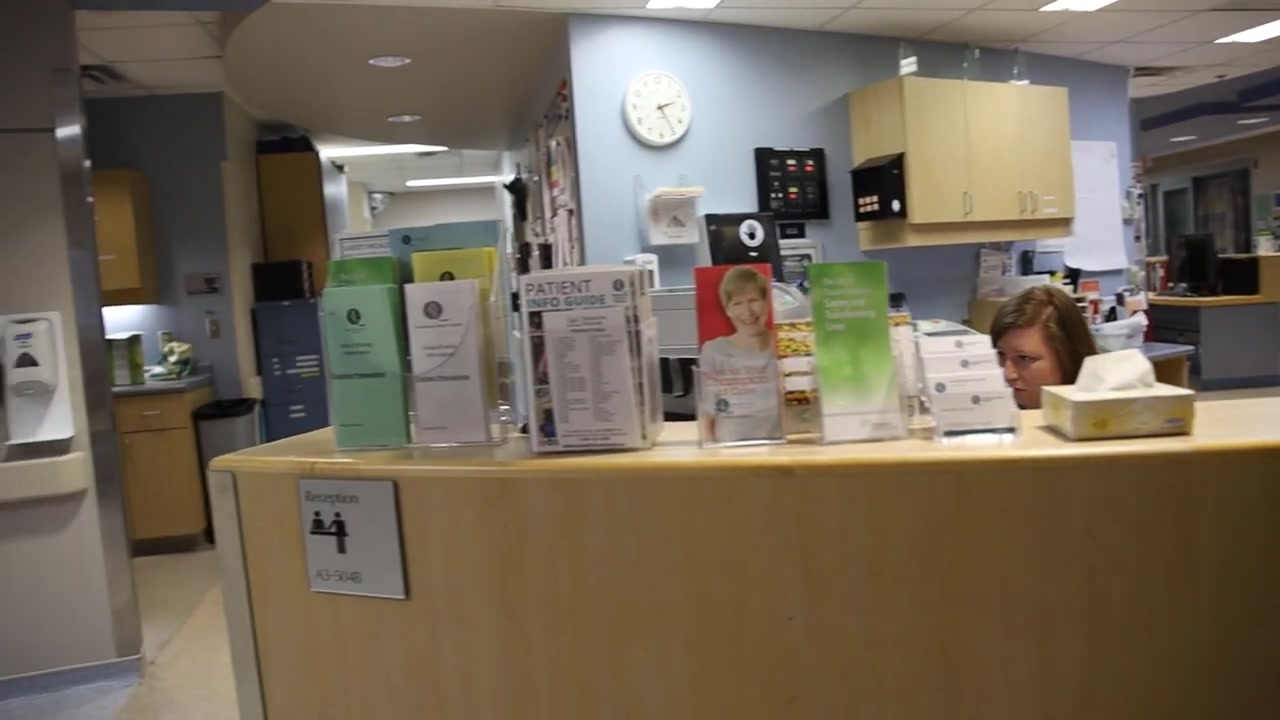cabinet: (854, 81, 1074, 255), (88, 163, 154, 300)
computer: (1168, 234, 1217, 288)
counter: (212, 394, 1280, 720), (108, 360, 206, 548)
countertop: (205, 394, 1280, 480)
dispenser: (1045, 347, 1198, 438), (1, 305, 78, 449), (694, 213, 783, 288), (630, 254, 662, 292)
hallway_assist_bar: (1, 446, 92, 508)
handle: (961, 191, 974, 215), (1028, 190, 1039, 215), (1017, 190, 1028, 214), (140, 409, 161, 417)
light_switch: (203, 317, 222, 341)
staff: (980, 285, 1085, 447)
waste_bin: (189, 396, 262, 471)
